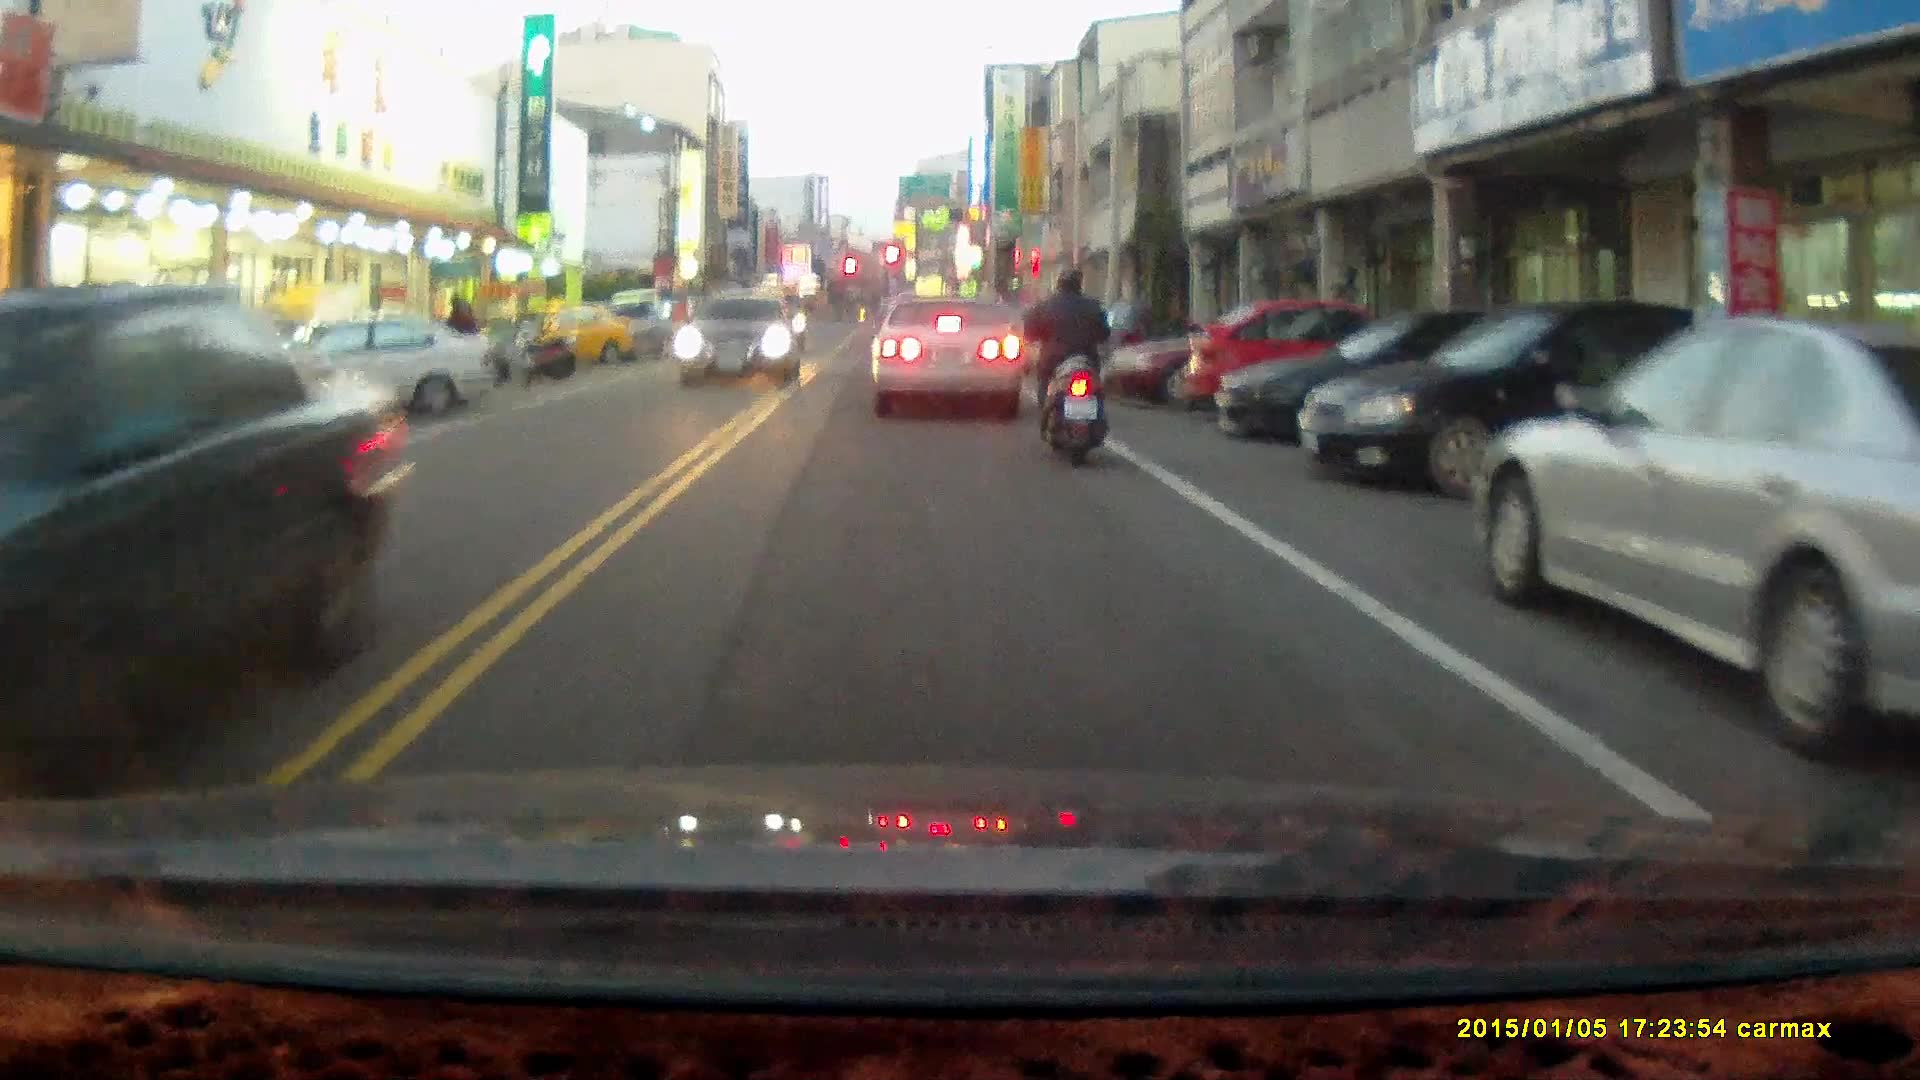pedestrian: (442, 293, 477, 367)
rider: (1023, 260, 1116, 466), (664, 294, 698, 365)
vehicle: (1, 281, 412, 799), (1476, 317, 1920, 762), (1297, 301, 1701, 499), (1213, 308, 1599, 453), (237, 305, 493, 426), (1180, 302, 1424, 425), (1103, 305, 1401, 405), (869, 291, 1025, 417), (679, 290, 804, 391), (517, 296, 639, 370)
